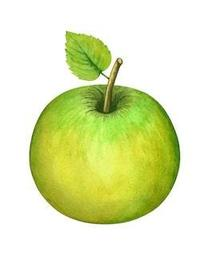apple: (28, 82, 180, 223)
